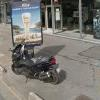Motorcycle: (8, 40, 69, 92)
